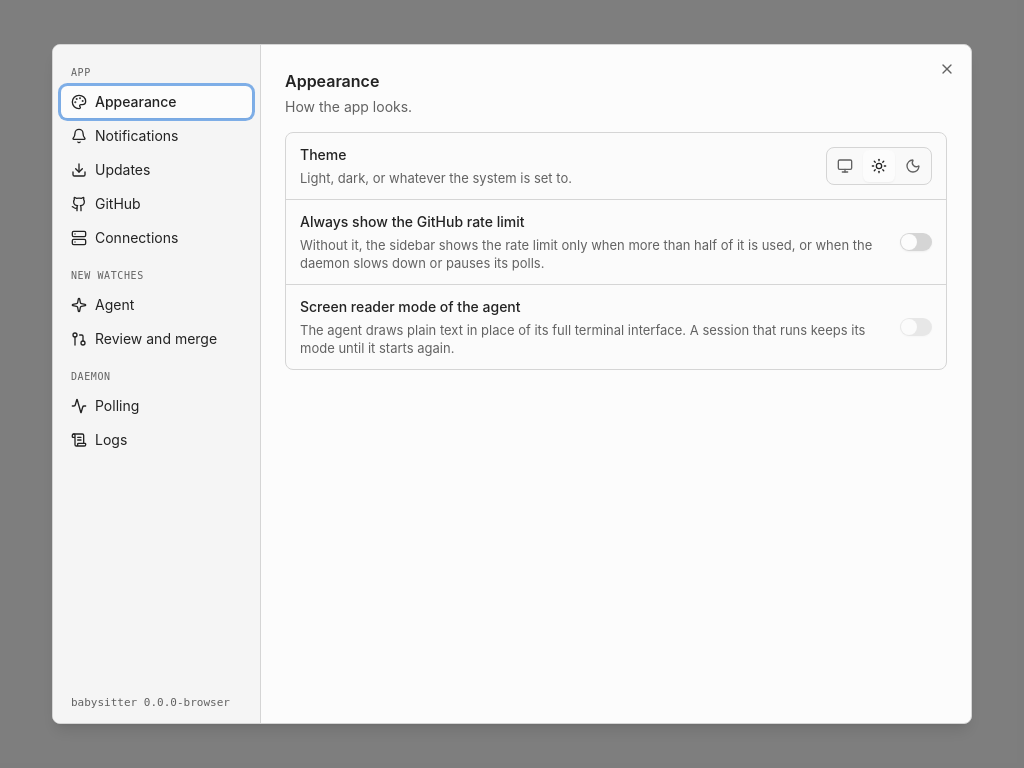
the theme control on the Appearance page takes a choice
Click the button named "Dark theme".
click(913, 166)  # box 897,150 -> 929,182
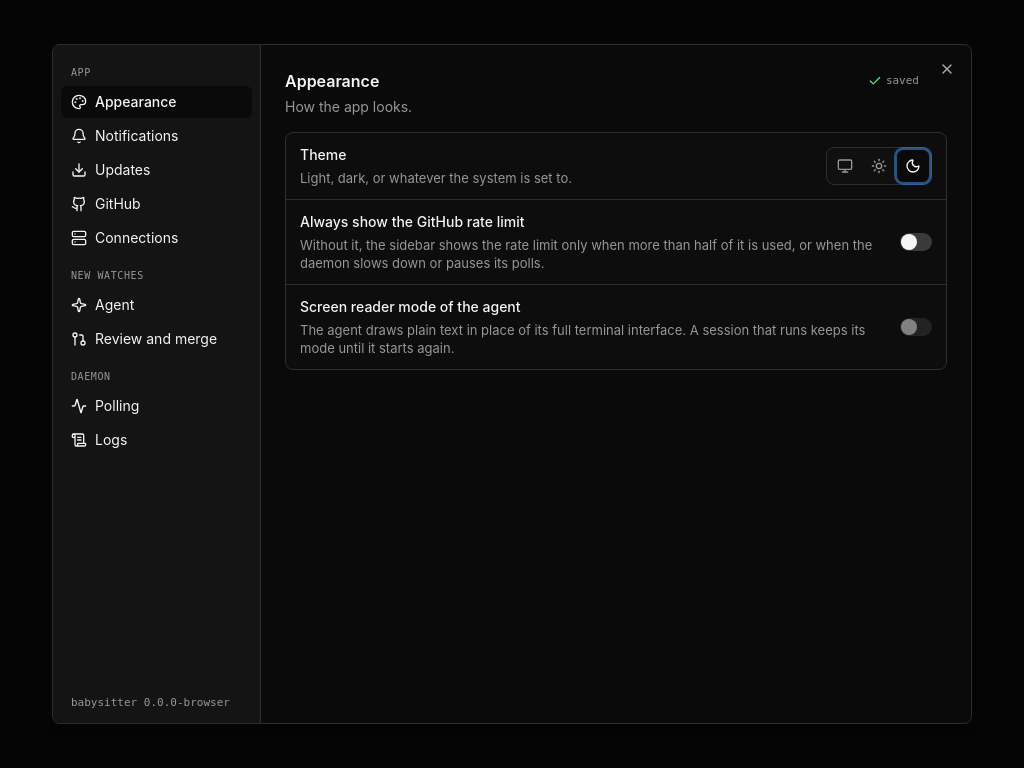
Check: the text "saved" is shown, box 868,74 -> 919,88
